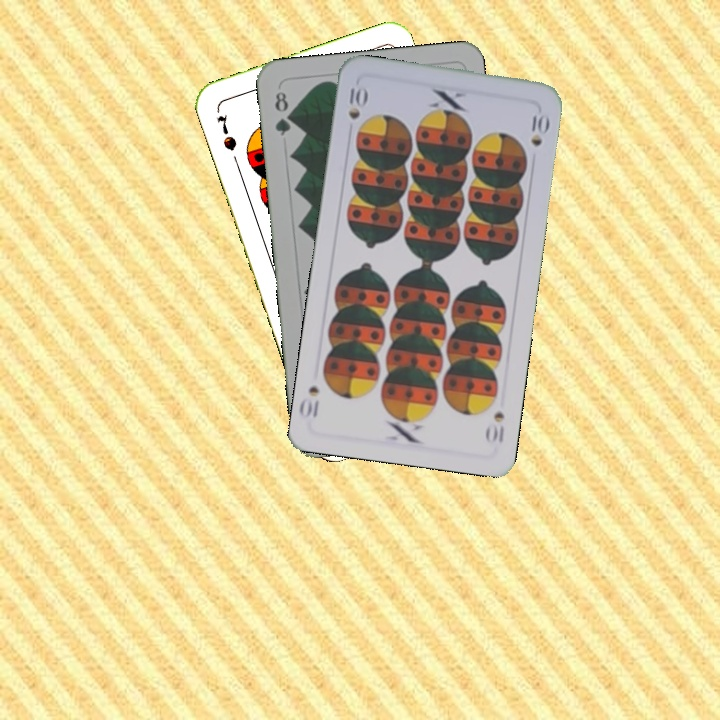G8: (270, 87, 295, 138)
S10: (344, 81, 369, 122), (482, 407, 507, 445)
S7: (213, 110, 240, 154)
